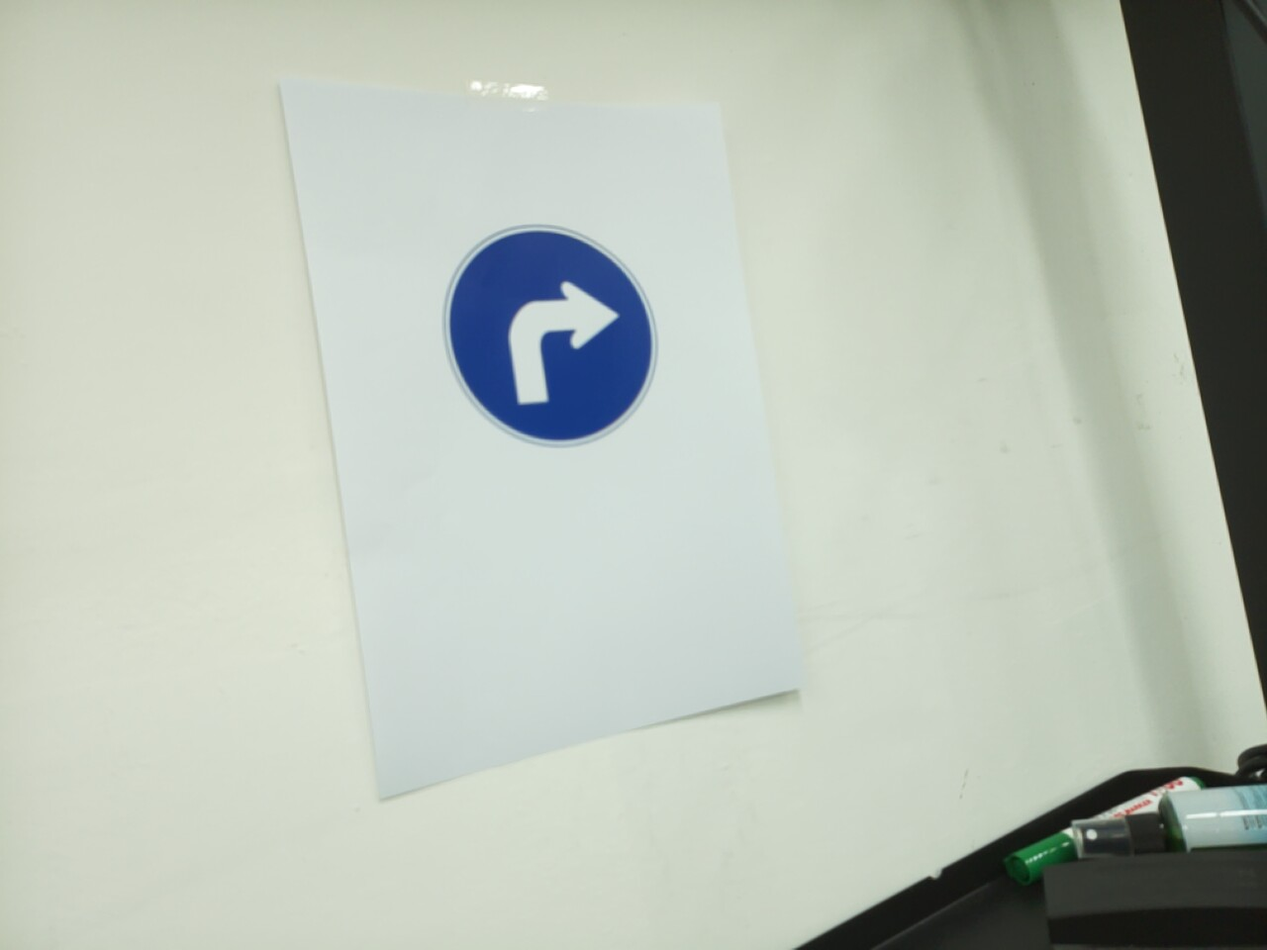right_turn: (441, 223, 660, 448)
